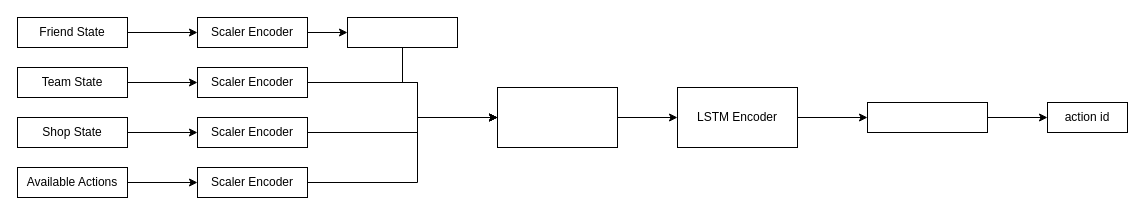
This 1145x215 diagram has some shape labels left out. Each missing label, with the box of its shape:
Action Type Head: (866, 102, 988, 132)
Feature Encoder: (496, 86, 618, 148)
Spatial Encoder: (346, 16, 458, 48)
